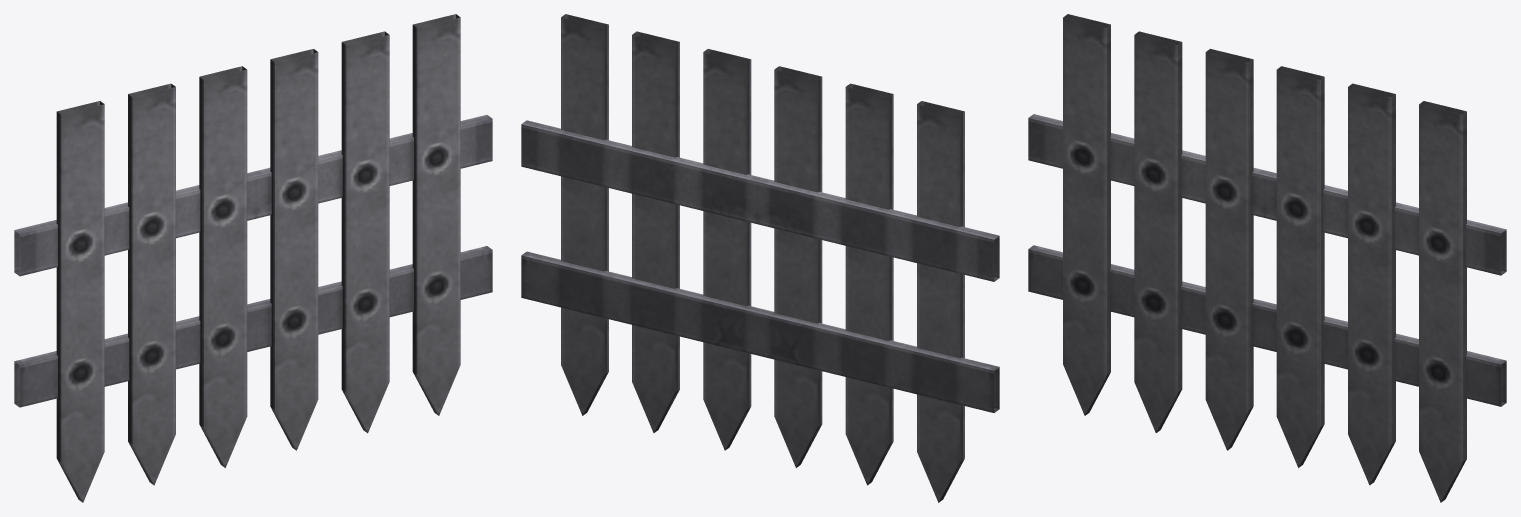
File: menzha_01.FBX
The picture shows the model from 3 angles, left to right: view 1: azimuth 30°, elevation 25°; view 2: azimuth 150°, elevation 25°; view 3: azimuth 330°, elevation 25°; orthographic projection.
Parts seen in each view (by area): view 1: menzha_01; view 2: menzha_01; view 3: menzha_01.
Boxes of the visible parts, left/top/right/bottom form: menzha_01: left=14, top=14, right=492, bottom=502; menzha_01: left=521, top=14, right=999, bottom=502; menzha_01: left=1028, top=14, right=1506, bottom=502.
Bounding box in the file's own units: 625 × 497 × 20.36.
